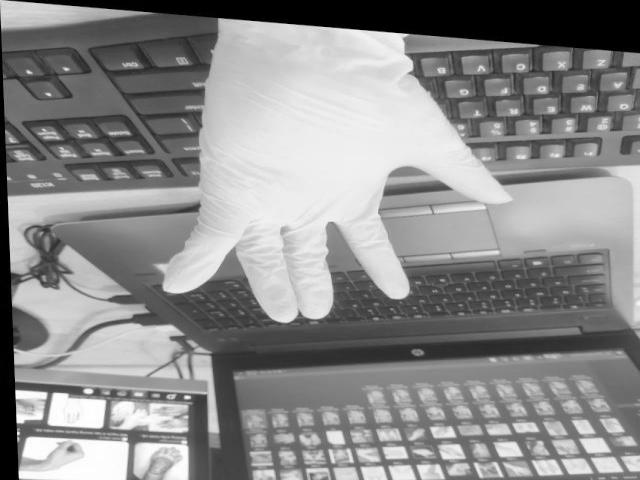gloved: (160, 10, 504, 323)
